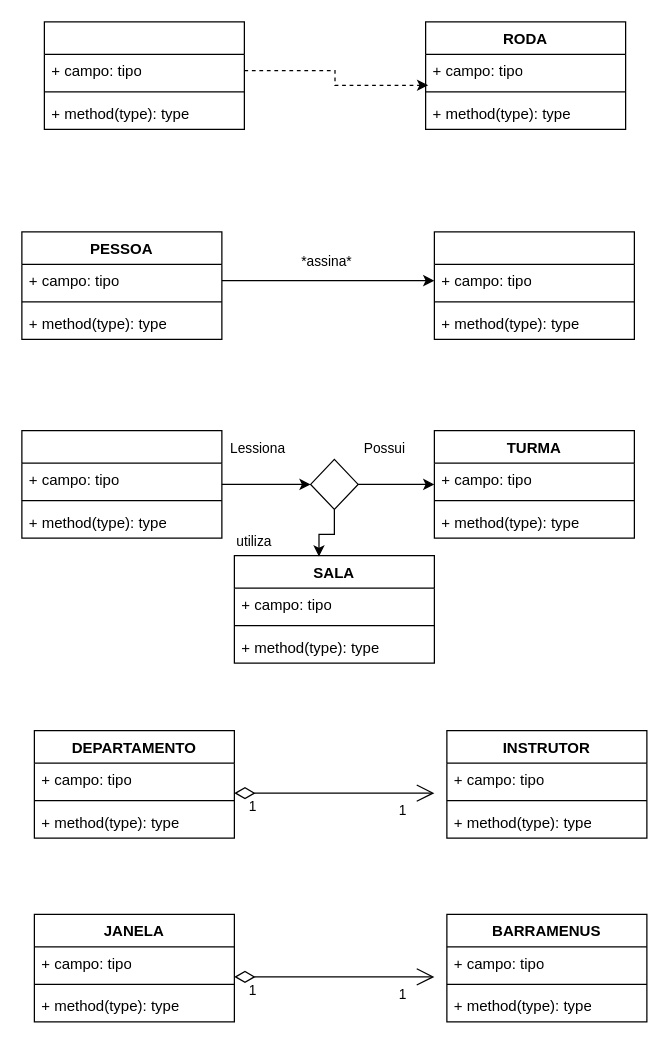
This 669x1049 diagram has some shape labels left out. Each missing label, with the box of its shape:
CARRO: (43, 21, 244, 129)
PROFESSOR: (21, 429, 222, 538)
REVISTA: (433, 231, 634, 339)
